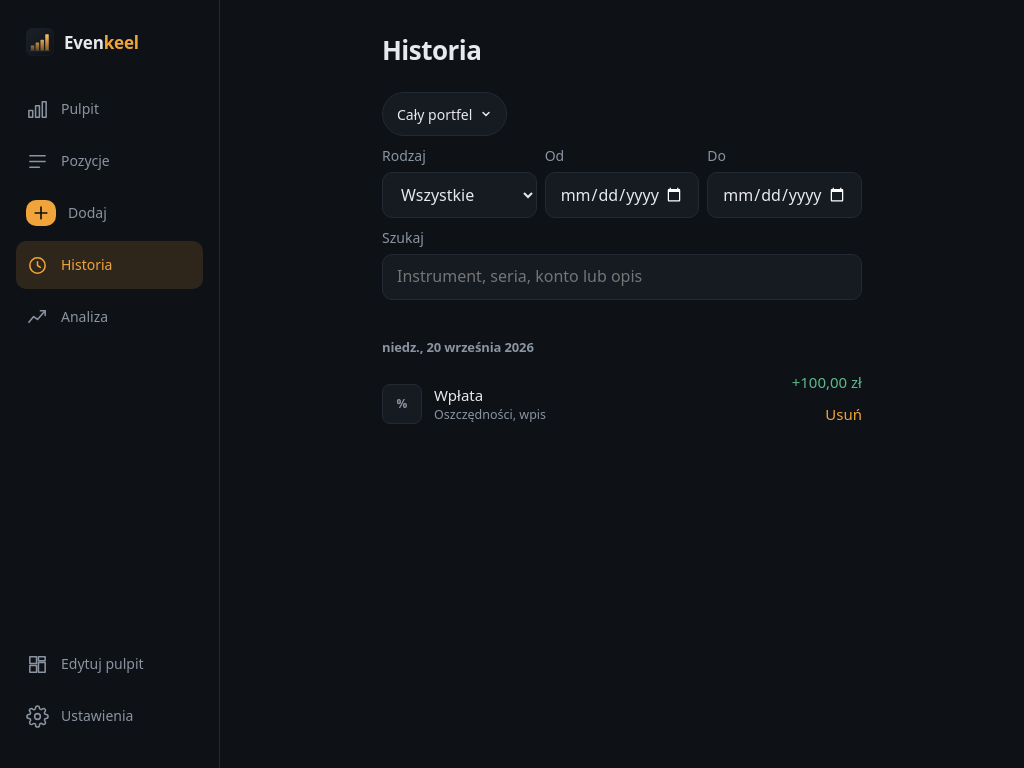
Test case: history › shows a failed delete next to the entry and keeps it
Step 1. Click the button "Usuń" → (844, 415), box [825,393,862,437]
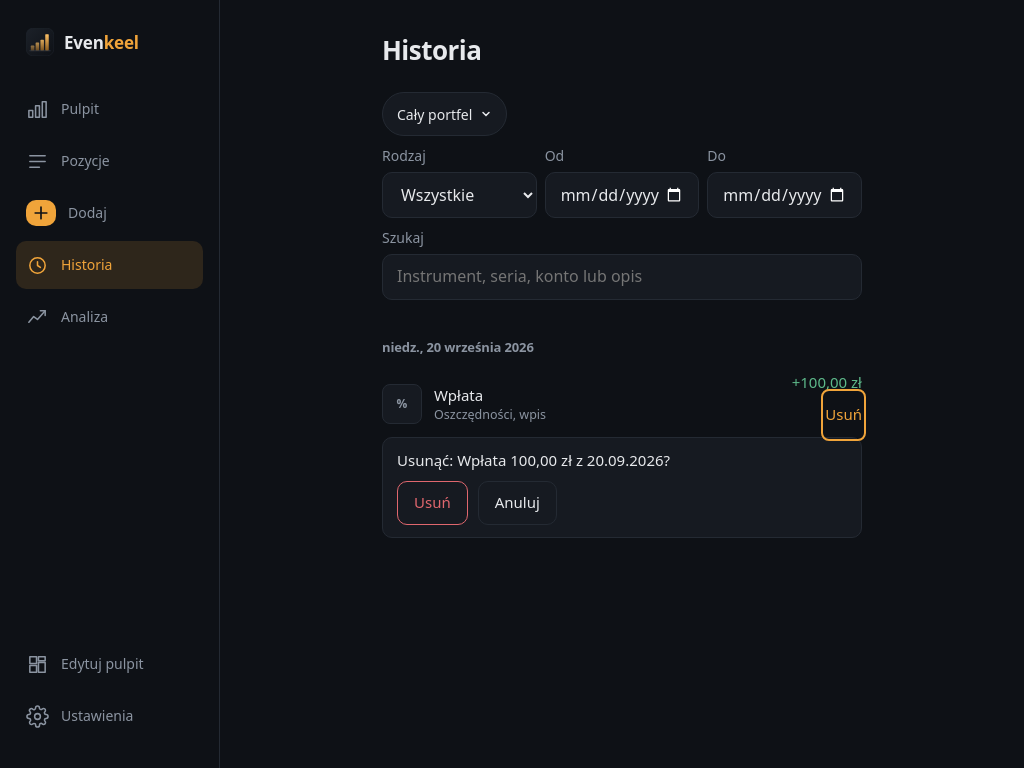
Step 2. Click the button "Usuń" below "Usunąć: Wpłata 100,00 zł z 20.09.2026?" → (432, 503), box [397,481,468,525]
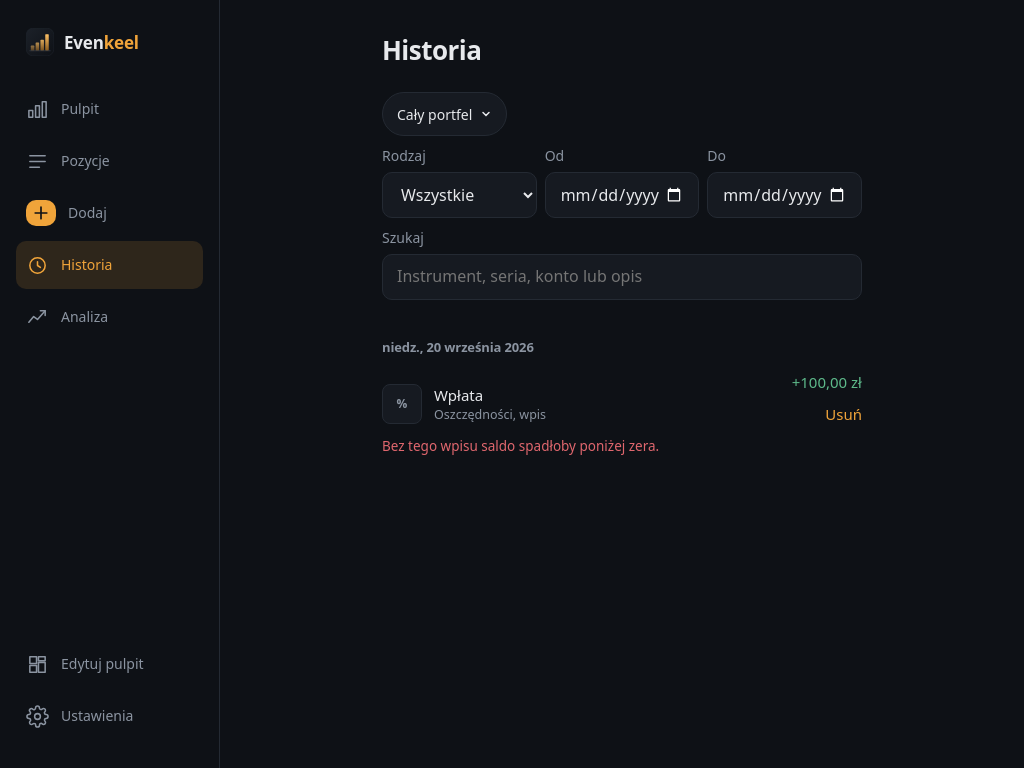
Expected: the message reads "Bez tego wpisu saldo spadłoby poniżej zera.", [382,437,659,455]
Expected: the element "Potwierdzenie" is gone
